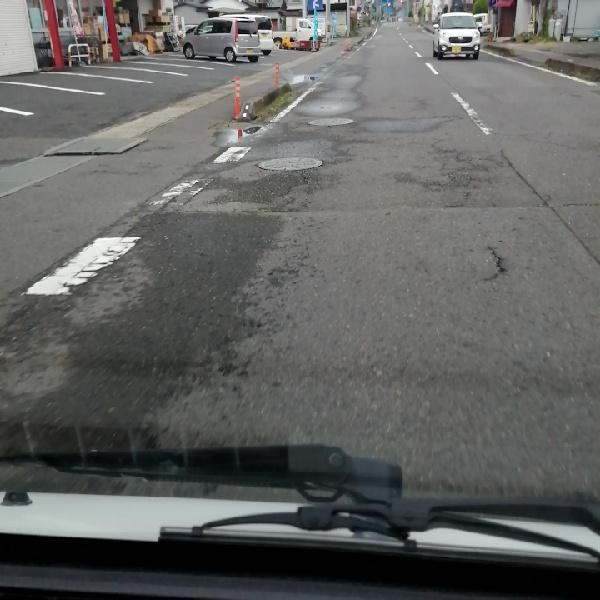D00: (480, 243, 510, 286)
D10: (556, 196, 599, 213)
D44: (442, 83, 501, 136)
D50: (256, 154, 323, 171), (305, 113, 354, 126)
